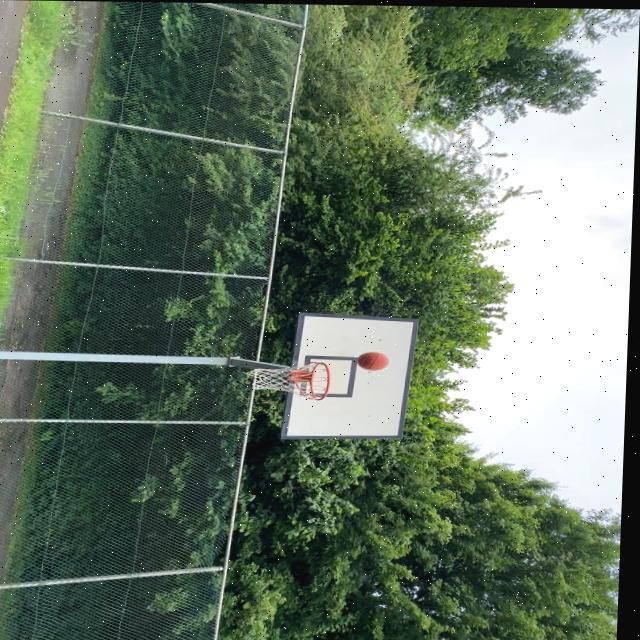Basketball: (358, 351, 389, 372)
